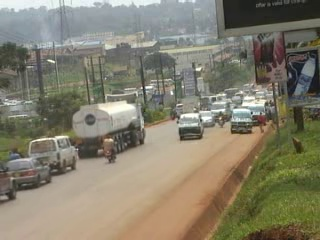Car: (6, 155, 53, 189), (0, 157, 18, 202), (194, 108, 214, 130)
Motorcycle: (100, 132, 119, 164), (216, 110, 227, 129), (9, 147, 25, 160)
